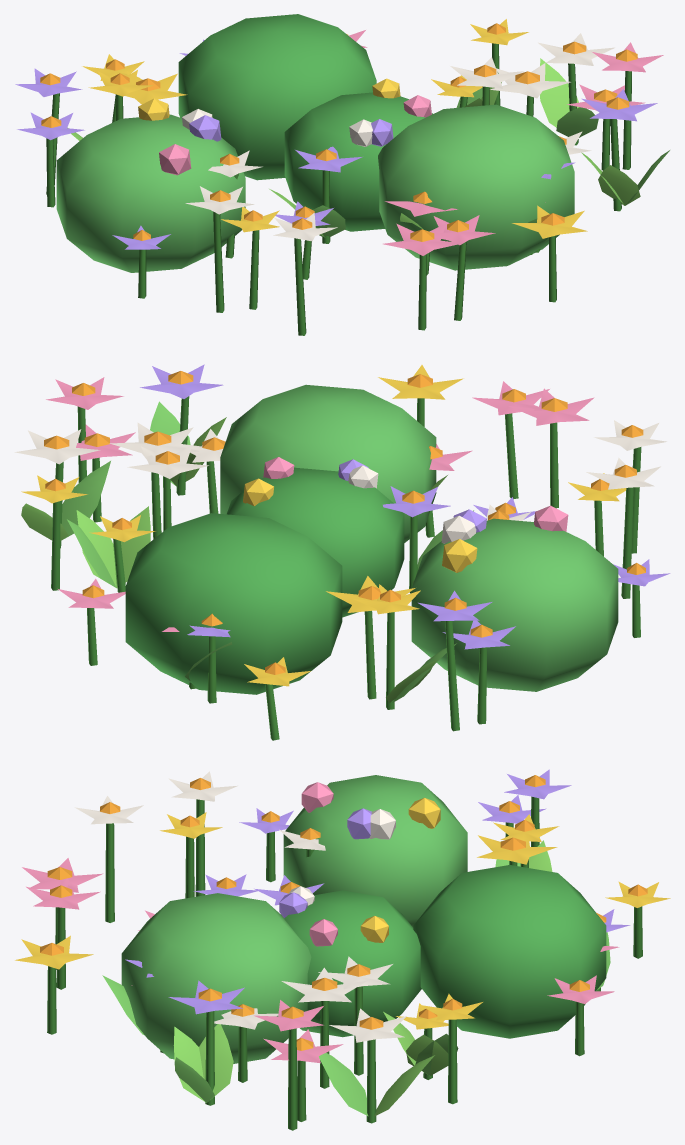
Rendered from florada.glb.
3 views of the same model, one above another, from view 1: azimuth 30°, elevation 25°; view 2: azimuth 150°, elevation 25°; view 3: azimuth 270°, elevation 25° (orthographic). The views are drawn at different scales.
Parts seen in each view (by area): view 1: florada-2, florada-3, florada-1; view 2: florada-3, florada-2, florada-1; view 3: florada-2, florada-3, florada-1.
Boxes of the visible parts, x1,y1,x2,y2 form: florada-2: (17, 14, 663, 320); florada-3: (15, 19, 645, 335); florada-1: (67, 33, 669, 254); florada-3: (21, 365, 666, 740); florada-2: (46, 364, 670, 724); florada-1: (14, 401, 473, 709); florada-2: (26, 795, 606, 1130); florada-3: (15, 769, 670, 1121); florada-1: (102, 814, 619, 1123).
Size of the model in its own units: 1.64 by 0.3823 by 1.64.
